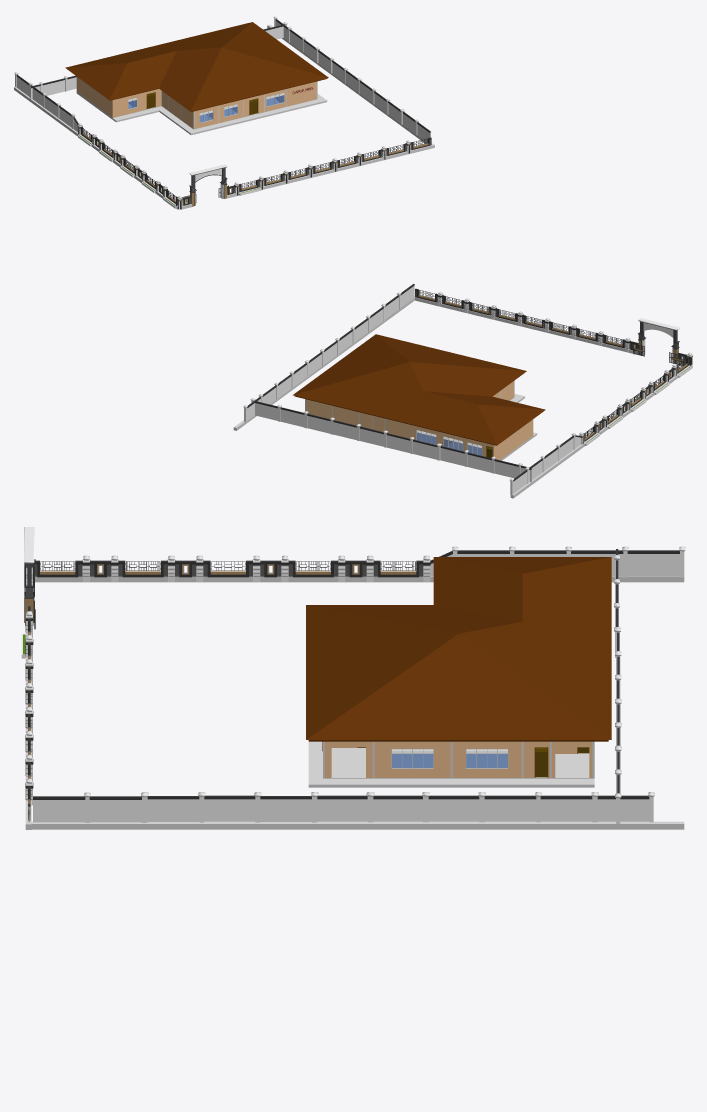
Rendered from Dapur_MBG2.fbx.
3 views of the same model, one above another, from view 1: azimuth 30°, elevation 25°; view 2: azimuth 150°, elevation 25°; view 3: azimuth 270°, elevation 25° (orthographic). The views are drawn at different scales.
Visible parts, largest first — view 1: G-Object.347, _G-Object.175 (Loose Mesh), G-Object.346, G-Object.174, Cube.001, Cube, Cube.003; view 2: G-Object.347, G-Object.174, _G-Object.175 (Loose Mesh), Cube.001, Cube, Cube.003, G-Object.346; view 3: G-Object.347, G-Object.346, _G-Object.175 (Loose Mesh), Cube.003, Cube, G-Object.028, G-Object.424, G-Object.031, G-Object.102, G-Object.097, G-Object.044, G-Object.083 (+7 smaller).
Boxes of the visible parts, left/top/right/bottom form: G-Object.347: left=65, top=22, right=328, bottom=111; _G-Object.175 (Loose Mesh): left=162, top=81, right=316, bottom=128; G-Object.346: left=76, top=92, right=327, bottom=135; G-Object.174: left=76, top=76, right=161, bottom=117; Cube.001: left=225, top=144, right=434, bottom=198; Cube: left=14, top=87, right=177, bottom=209; Cube.003: left=267, top=24, right=432, bottom=144; G-Object.347: left=293, top=334, right=545, bottom=445; G-Object.174: left=385, top=419, right=533, bottom=460; _G-Object.175 (Loose Mesh): left=306, top=381, right=513, bottom=431; Cube.001: left=414, top=296, right=638, bottom=354; Cube: left=510, top=364, right=692, bottom=498; Cube.003: left=233, top=297, right=414, bottom=430; G-Object.346: left=417, top=394, right=537, bottom=460; G-Object.347: left=306, top=557, right=611, bottom=741; G-Object.346: left=308, top=741, right=594, bottom=787; _G-Object.175 (Loose Mesh): left=325, top=741, right=592, bottom=777; Cube.003: left=30, top=821, right=684, bottom=829; Cube: left=35, top=574, right=684, bottom=582; G-Object.028: left=33, top=796, right=85, bottom=822; G-Object.424: left=627, top=550, right=679, bottom=576; G-Object.031: left=89, top=796, right=141, bottom=822; G-Object.102: left=540, top=795, right=592, bottom=821; G-Object.097: left=484, top=795, right=536, bottom=821; G-Object.044: left=204, top=795, right=255, bottom=821; G-Object.083: left=428, top=795, right=479, bottom=821.
Bounding box in the file's own units: 17499 × 1457 × 9359.
17 materials, 10 textured.
